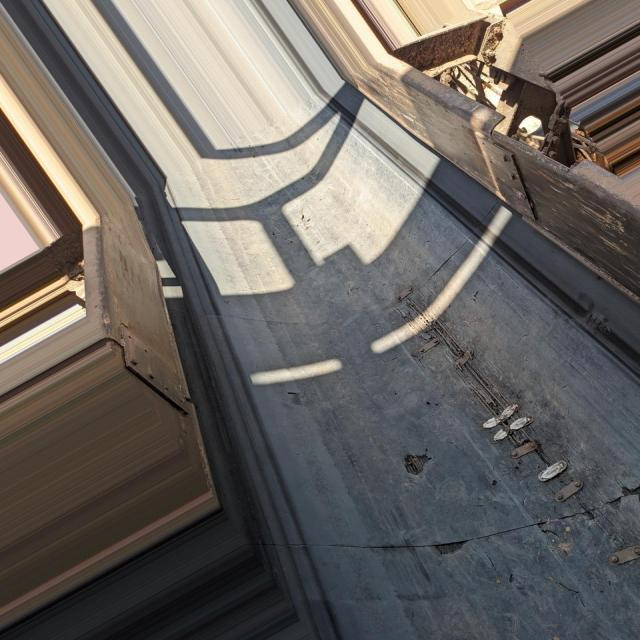Tear: (312, 477, 640, 555), (419, 231, 474, 284), (398, 444, 439, 477), (288, 387, 304, 401)
patch work: (393, 285, 599, 507), (603, 543, 640, 578)
